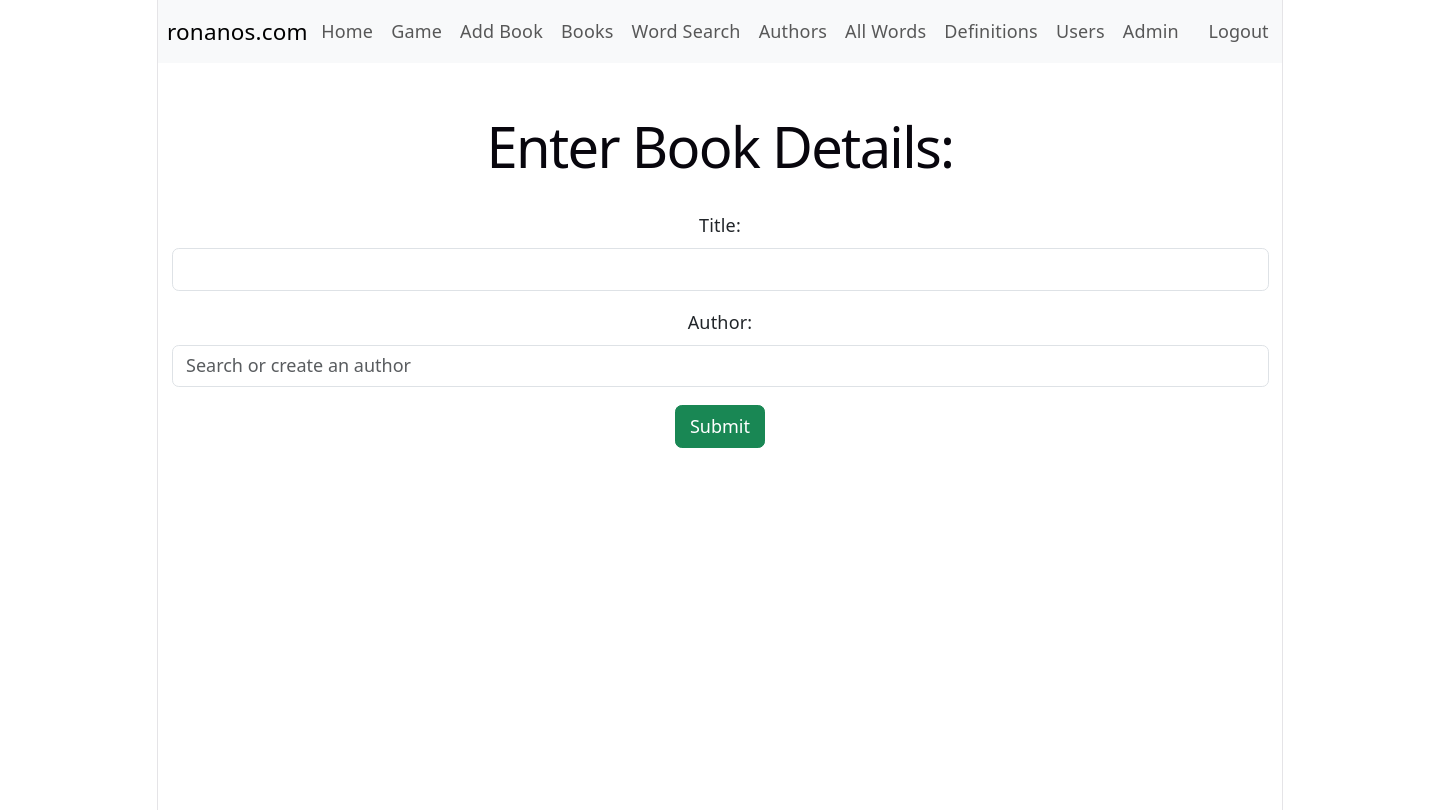
Scenario: AddBook › shows backend save errors
expect the field labelled "Title:" is shown: met, box [172, 248, 1268, 291]
Type "Mary" into the field labelled "Author:" at (720, 366), box [172, 345, 1268, 387]
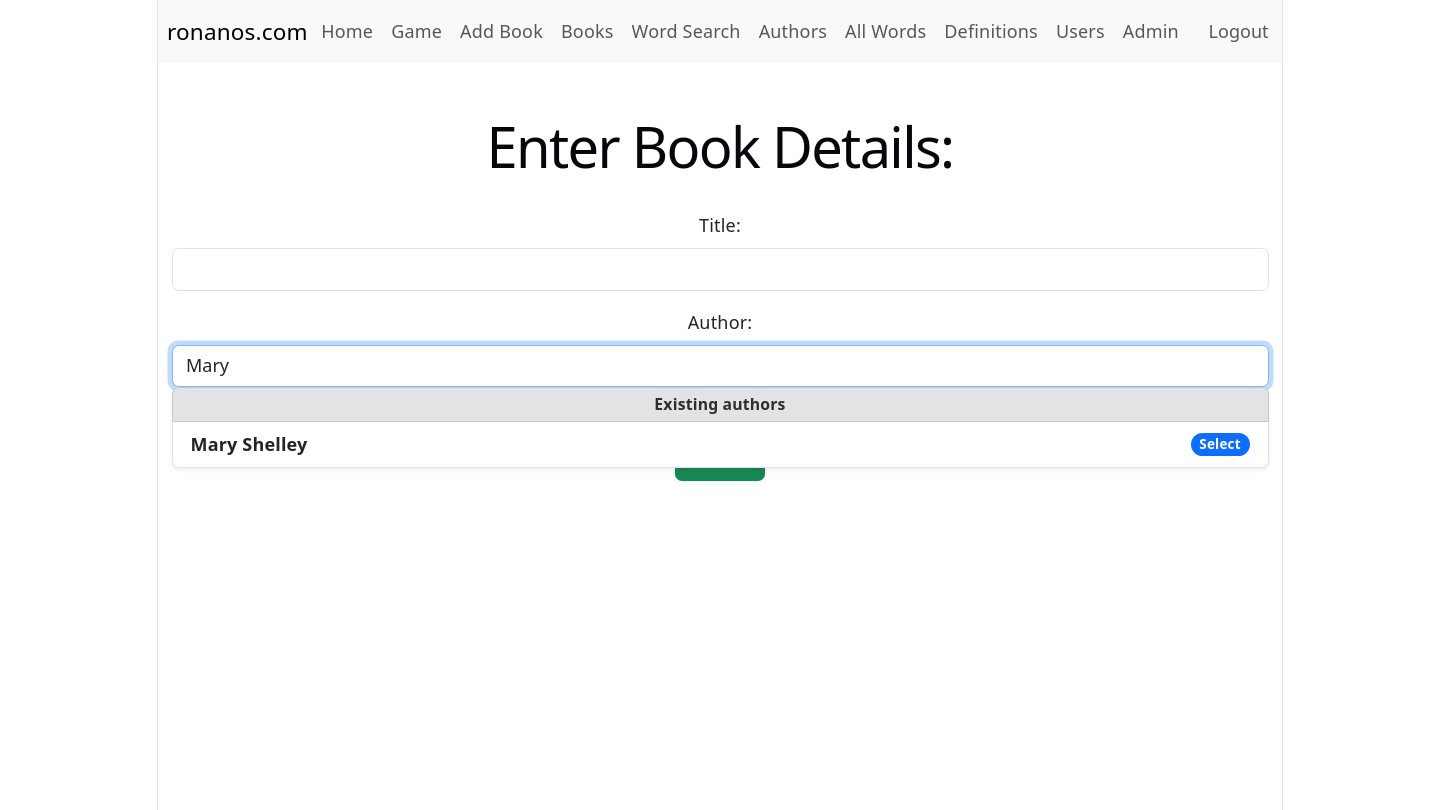
Click the list item "Mary Shelley" at (720, 445), box [172, 422, 1268, 468]
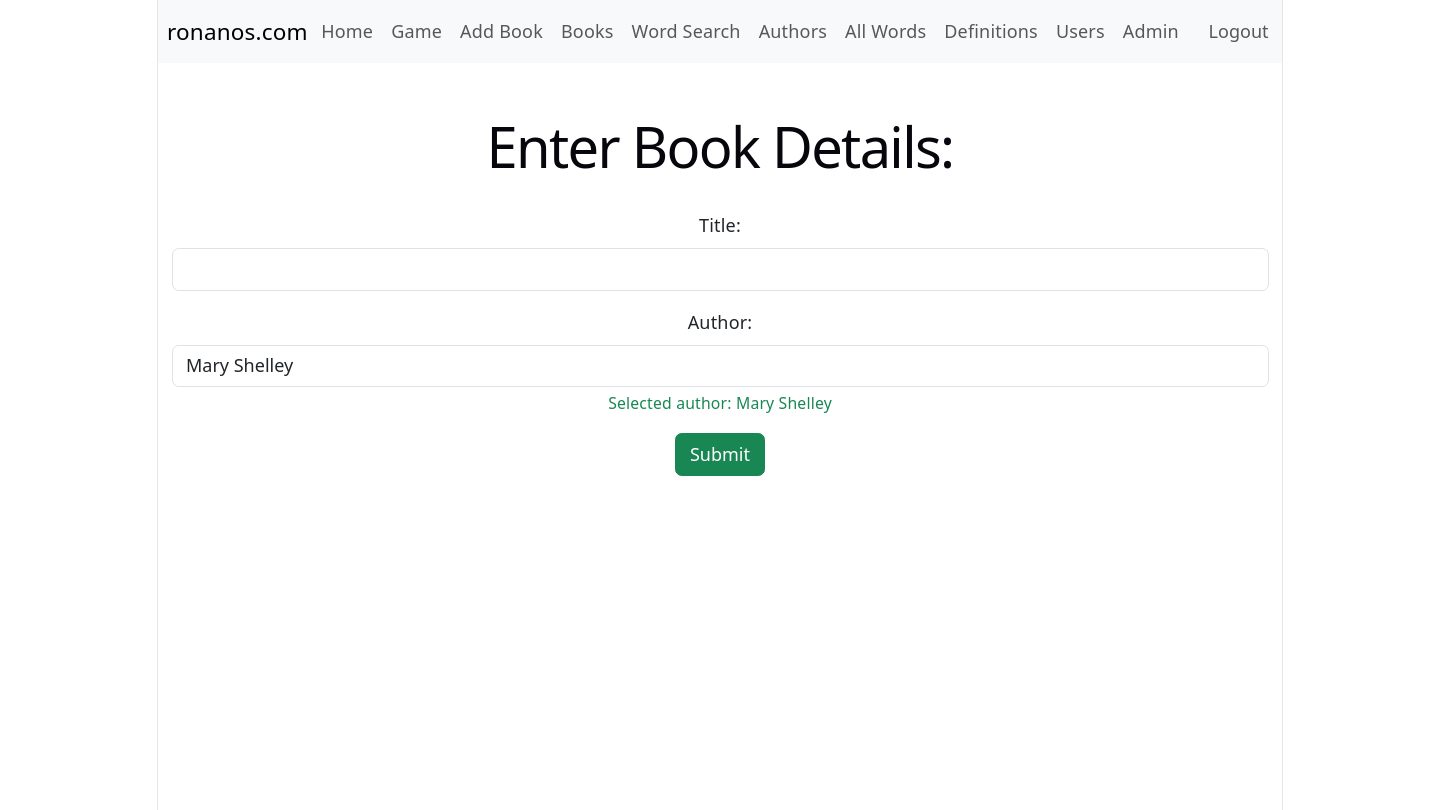
Type "Frankenstein" into the field labelled "Title:" at (720, 269), box [172, 248, 1268, 291]
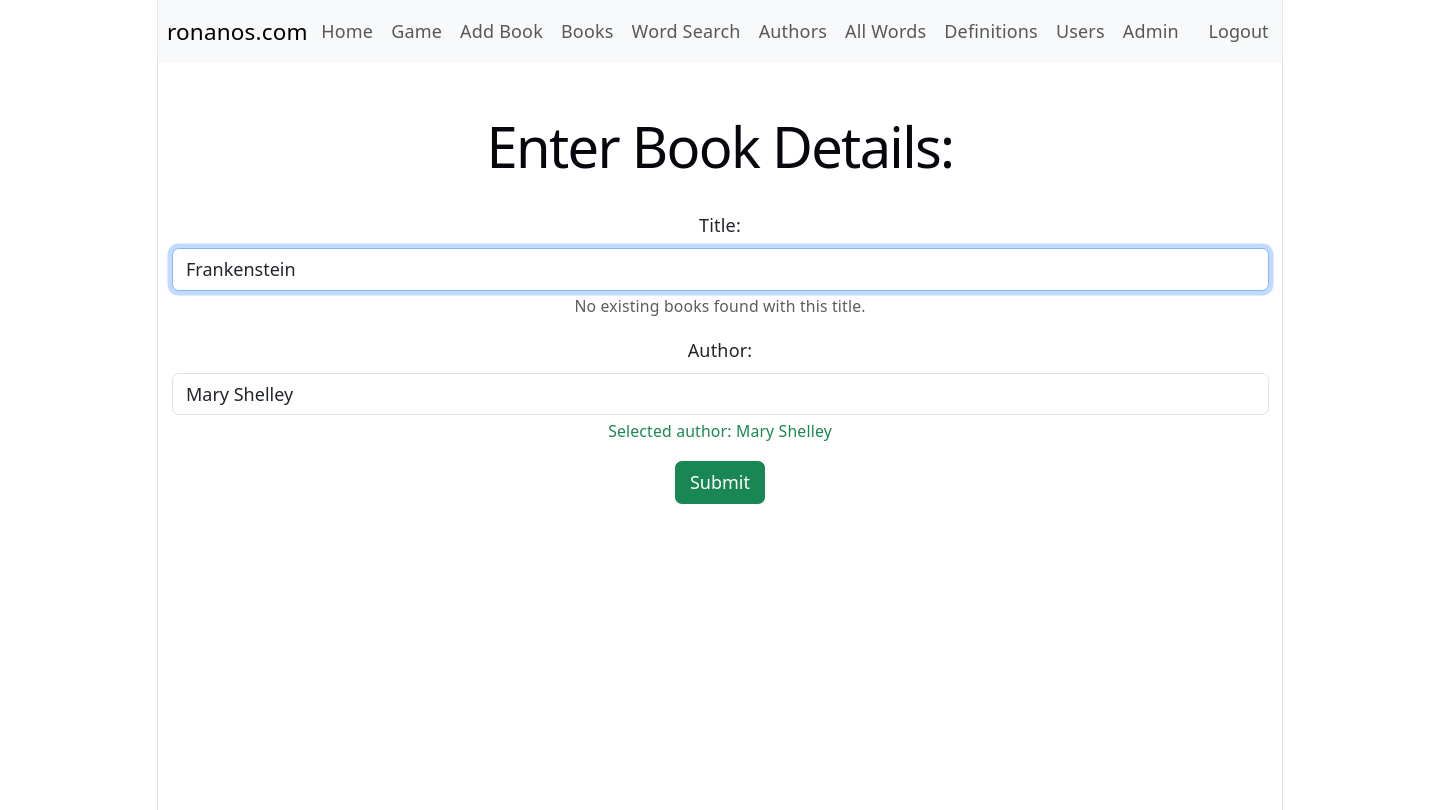
Click the button "Submit" at (720, 483), box [676, 461, 765, 504]
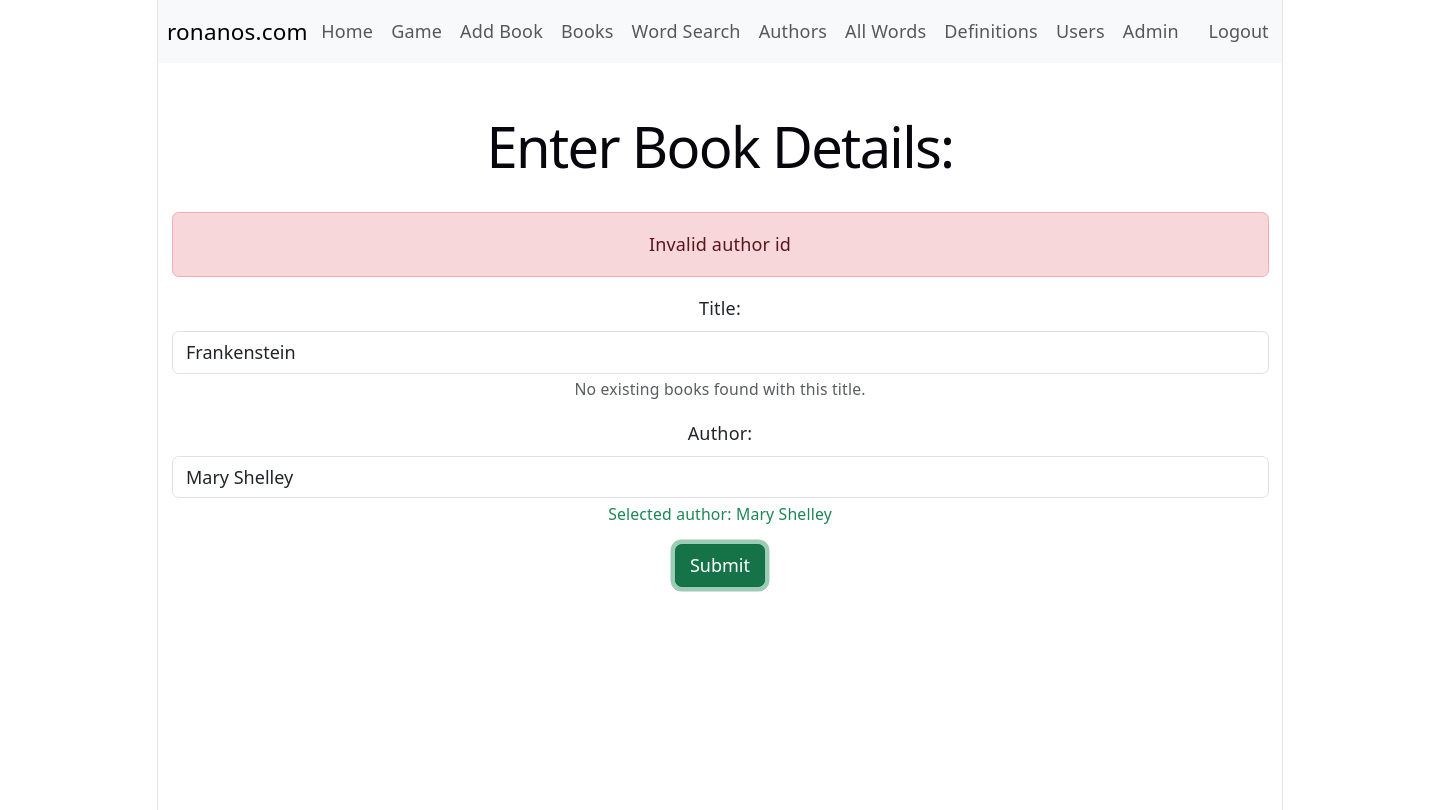
expect the text "Invalid author id" is shown: met, box [172, 212, 1268, 277]
